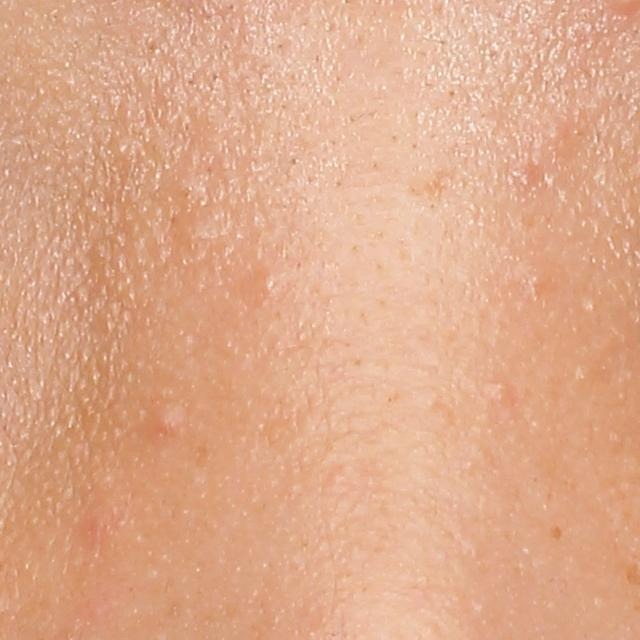comedo: (484, 372, 512, 409), (255, 272, 277, 294)
melasma: (547, 523, 565, 542)
